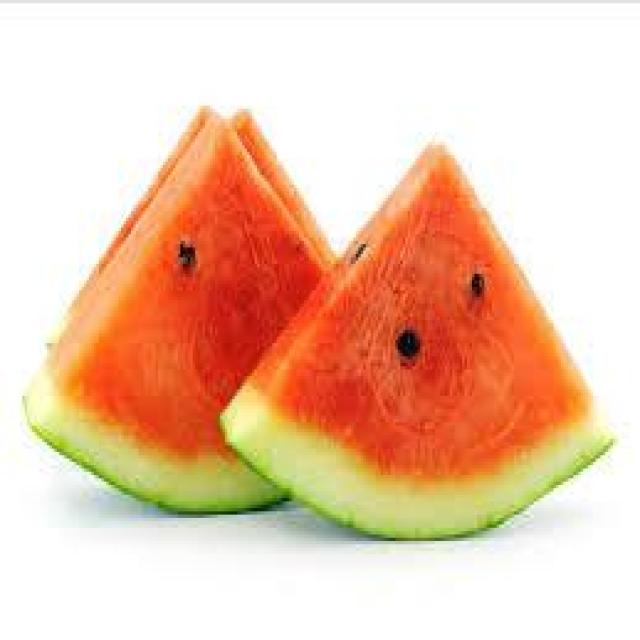organic: (22, 109, 620, 544)
